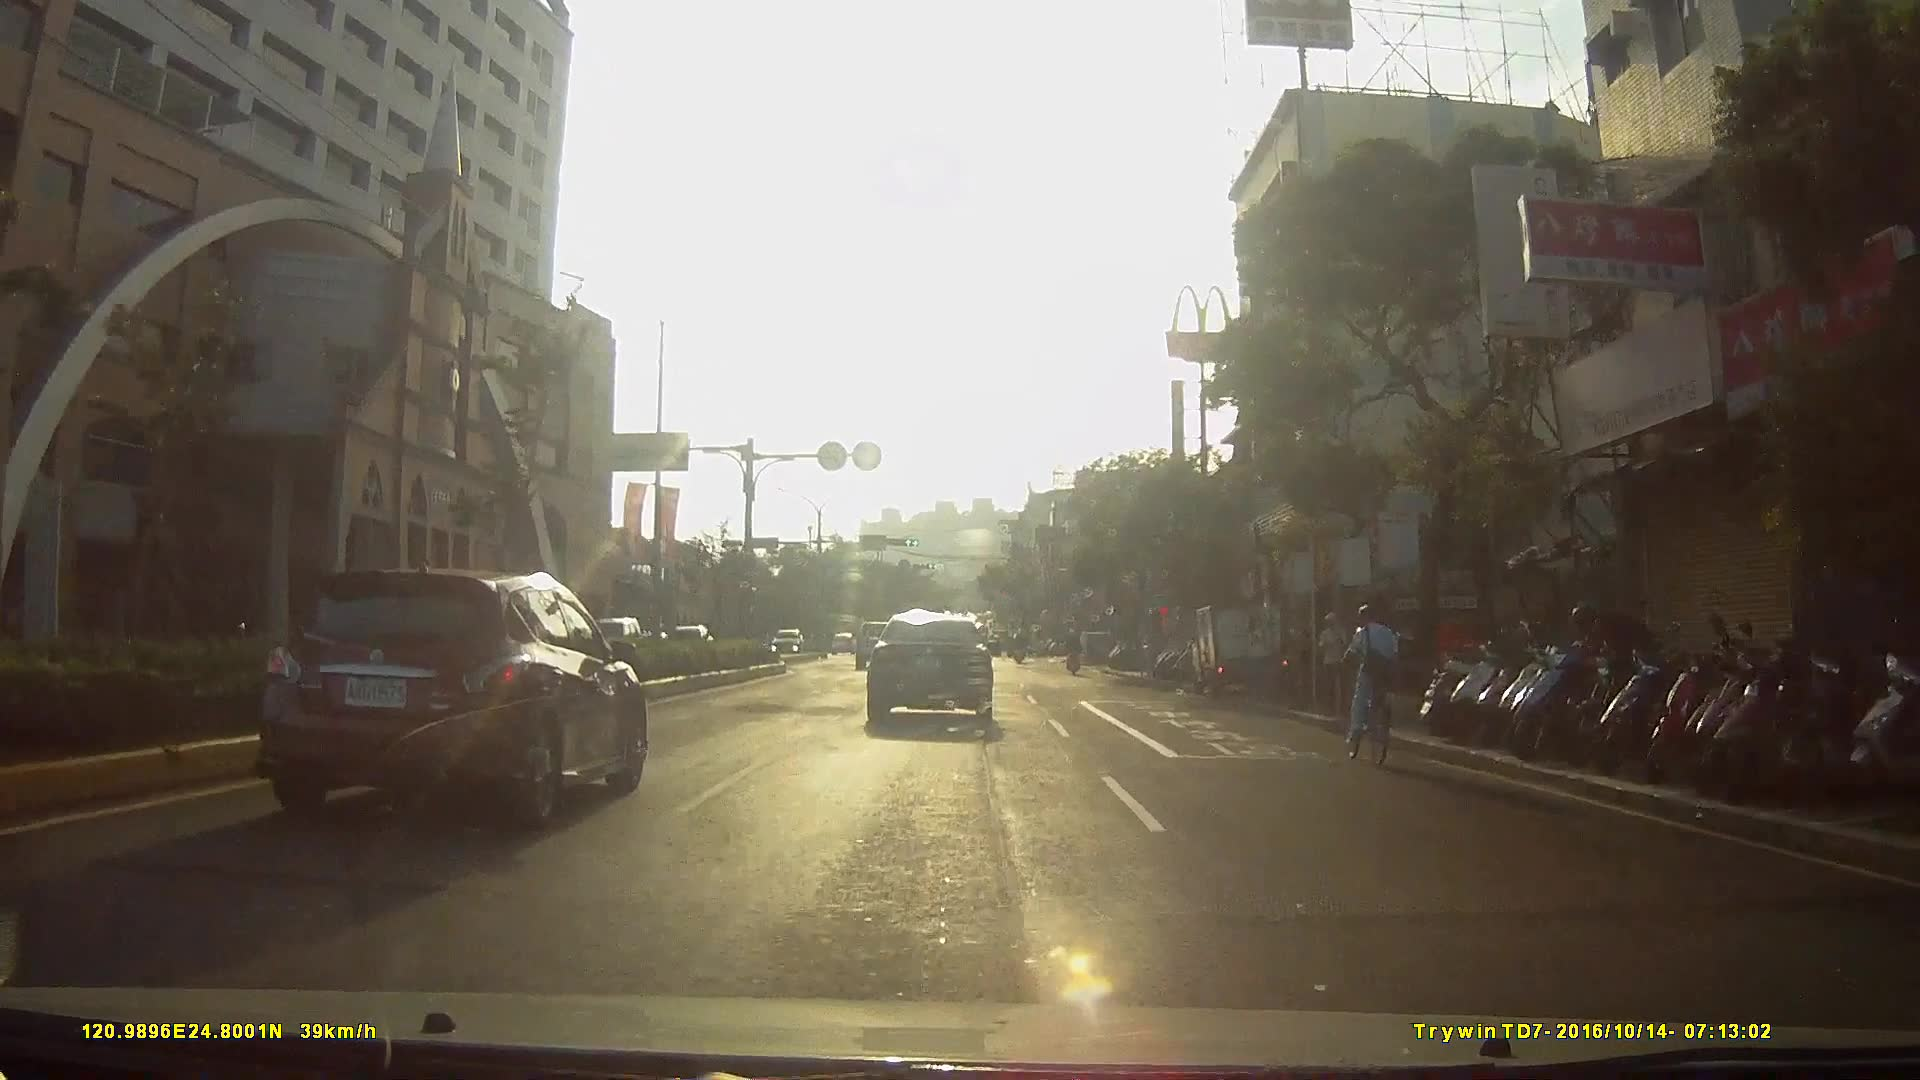pedestrian: (1319, 612, 1359, 716)
rider: (1333, 607, 1408, 769), (1065, 624, 1085, 674)
vehicle: (247, 563, 660, 827), (863, 608, 1008, 734), (1195, 598, 1300, 702), (852, 622, 911, 675), (767, 624, 807, 654), (823, 634, 850, 660)
